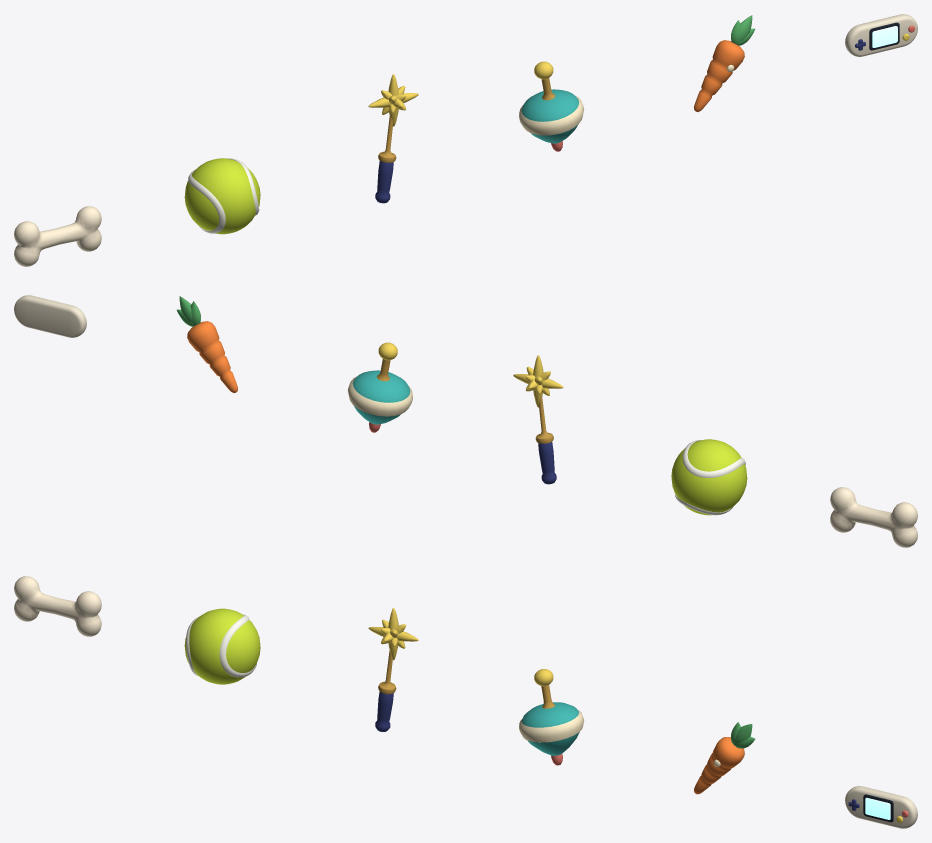
File: pet-toys.fbx
3 views of the same model, one above another, from view 1: azimuth 30°, elevation 25°; view 2: azimuth 150°, elevation 25°; view 3: azimuth 330°, elevation 25° (orthographic).
Parts seen in each view (by area): view 1: ball__FeltBall, bone__BoneBody, wobble_top__TealBody, squeaky_carrot__CarrotBody, pocket_deck__DeckShell, wobble_top__CreamEquator, sparkler__SparkBurst, ball__Seam, sparkler__IndigoGrip; view 2: ball__FeltBall, bone__BoneBody, pocket_deck__DeckShell, wobble_top__TealBody, squeaky_carrot__CarrotBody, wobble_top__CreamEquator, sparkler__SparkBurst, ball__Seam, sparkler__IndigoGrip; view 3: ball__FeltBall, bone__BoneBody, wobble_top__TealBody, pocket_deck__DeckShell, squeaky_carrot__CarrotBody, wobble_top__CreamEquator, sparkler__SparkBurst, ball__Seam, sparkler__IndigoGrip.
Part boxes in pixels (x1,y1,x2,y2): ball__FeltBall: (184,158,260,234); bone__BoneBody: (14,206,101,266); wobble_top__TealBody: (521,89,579,143); squeaky_carrot__CarrotBody: (694,40,744,112); pocket_deck__DeckShell: (845,14,917,56); wobble_top__CreamEquator: (519,96,584,135); sparkler__SparkBurst: (368,74,418,126); ball__Seam: (188,158,259,233); sparkler__IndigoGrip: (375,161,393,203); ball__FeltBall: (671,439,747,515); bone__BoneBody: (830,487,917,547); pocket_deck__DeckShell: (14,295,86,337); wobble_top__TealBody: (352,370,410,424); squeaky_carrot__CarrotBody: (187,321,237,393); wobble_top__CreamEquator: (347,377,412,416); sparkler__SparkBurst: (513,355,563,407); ball__Seam: (675,440,745,515); sparkler__IndigoGrip: (538,442,556,484); ball__FeltBall: (184,608,260,684); bone__BoneBody: (14,576,101,636); wobble_top__TealBody: (521,702,579,755); pocket_deck__DeckShell: (845,786,917,828); squeaky_carrot__CarrotBody: (694,737,744,794); wobble_top__CreamEquator: (519,710,584,742); sparkler__SparkBurst: (368,608,418,660); ball__Seam: (186,614,256,677); sparkler__IndigoGrip: (375,692,393,731).
Size of the model in its own units: 328 by 43.75 by 24.
